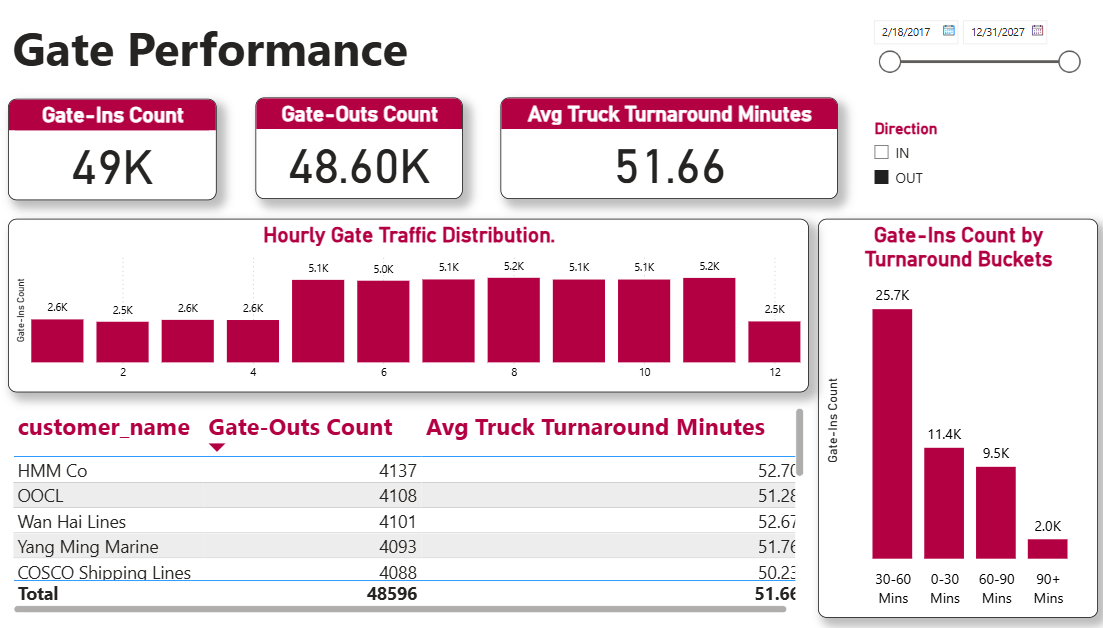

The page's visual inventory and layout, read from the dashboard file:
{"tool":"powerbi","page":{"name":"Gate Performance","canvas":[1280,720],"ordinal":1},"visuals":[{"type":"tableEx","fields":{"Values":["mart Dim_Customer.customer_name","MY Measures.Gate-Outs Count","MY Measures.Avg Truck Turnaround Minutes"]},"box":[17.1,461.4,914.3,244.3],"z":0},{"type":"card","title":"Gate-Ins Count","fields":{"Values":["MY Measures.Gate-Ins Count"]},"box":[17.1,112.4,238.6,115.7],"z":1000},{"type":"card","title":"Gate-Outs Count","fields":{"Values":["MY Measures.Gate-Outs Count"]},"box":[300,111.4,237.1,115.7],"z":2000},{"type":"card","title":"Avg Truck Turnaround Minutes","fields":{"Values":["MY Measures.Avg Truck Turnaround Minutes"]},"box":[580,111.4,385.7,115.7],"z":3000},{"type":"clusteredColumnChart","fields":{"Category":["mart Fact_Gate_Transactions.Turnaround Buckets"],"Y":["MY Measures.Gate-Ins Count"]},"box":[942.9,250,320,455.7],"z":4000},{"type":"slicer","fields":{"Values":["mart Dim_Date.full_date"]},"box":[994.3,12.9,257.1,102.9],"z":5000},{"type":"clusteredColumnChart","title":"Hourly Gate Traffic Distribution.","fields":{"Y":["MY Measures.Gate-Ins Count"],"Category":["mart Dim_Time.hour_12"]},"box":[16.7,250,915,198.3],"z":6000},{"type":"slicer","fields":{"Values":["mart Dim_Direction.direction_name"]},"box":[994.3,131.4,257.1,95.7],"z":7000},{"type":"textbox","box":[17.1,12.9,948.6,85.7],"z":7001}]}

Visuals, with their boxes in screenshot pixels (x1, y1, x2, y2), scaled from the page's 1280x720 canvas onto the 1103x628 screenshot:
tableEx - mart Dim_Customer.customer_name x MY Measures.Gate-Outs Count: crop(15, 402, 803, 616)
"Gate-Ins Count" card: crop(15, 98, 220, 199)
"Gate-Outs Count" card: crop(259, 97, 463, 198)
"Avg Truck Turnaround Minutes" card: crop(500, 97, 832, 198)
clusteredColumnChart - mart Fact_Gate_Transactions.Turnaround Buckets x MY Measures.Gate-Ins Count: crop(813, 218, 1088, 616)
slicer - mart Dim_Date.full_date: crop(857, 11, 1078, 101)
"Hourly Gate Traffic Distribution." clusteredColumnChart: crop(14, 218, 803, 391)
slicer - mart Dim_Direction.direction_name: crop(857, 115, 1078, 198)
textbox: crop(15, 11, 832, 86)
